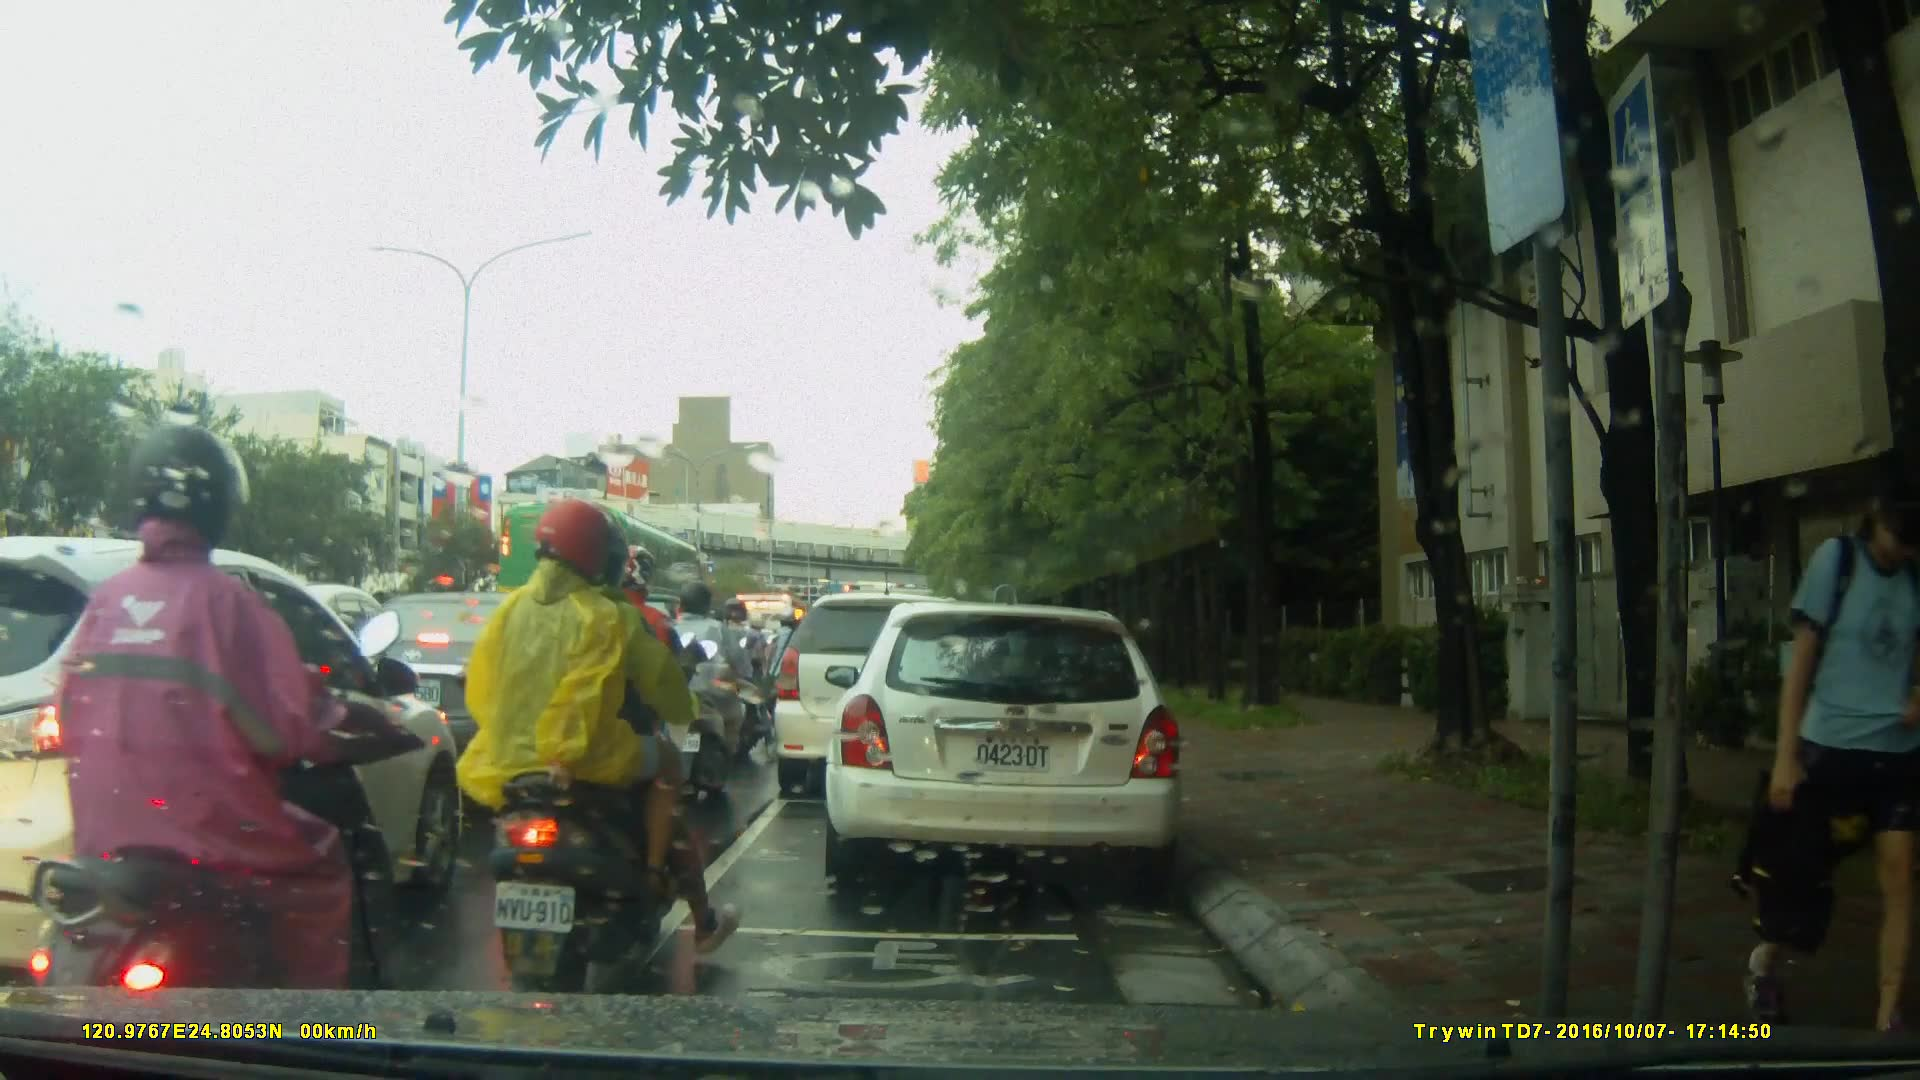pedestrian: (1743, 434, 1920, 1012)
rider: (28, 425, 429, 1064), (460, 501, 695, 991), (558, 545, 689, 844), (655, 584, 746, 799), (715, 592, 772, 759), (764, 607, 816, 728)
vehicle: (3, 534, 463, 988), (831, 592, 1196, 897), (320, 590, 629, 776), (770, 590, 999, 804), (495, 499, 709, 636)
